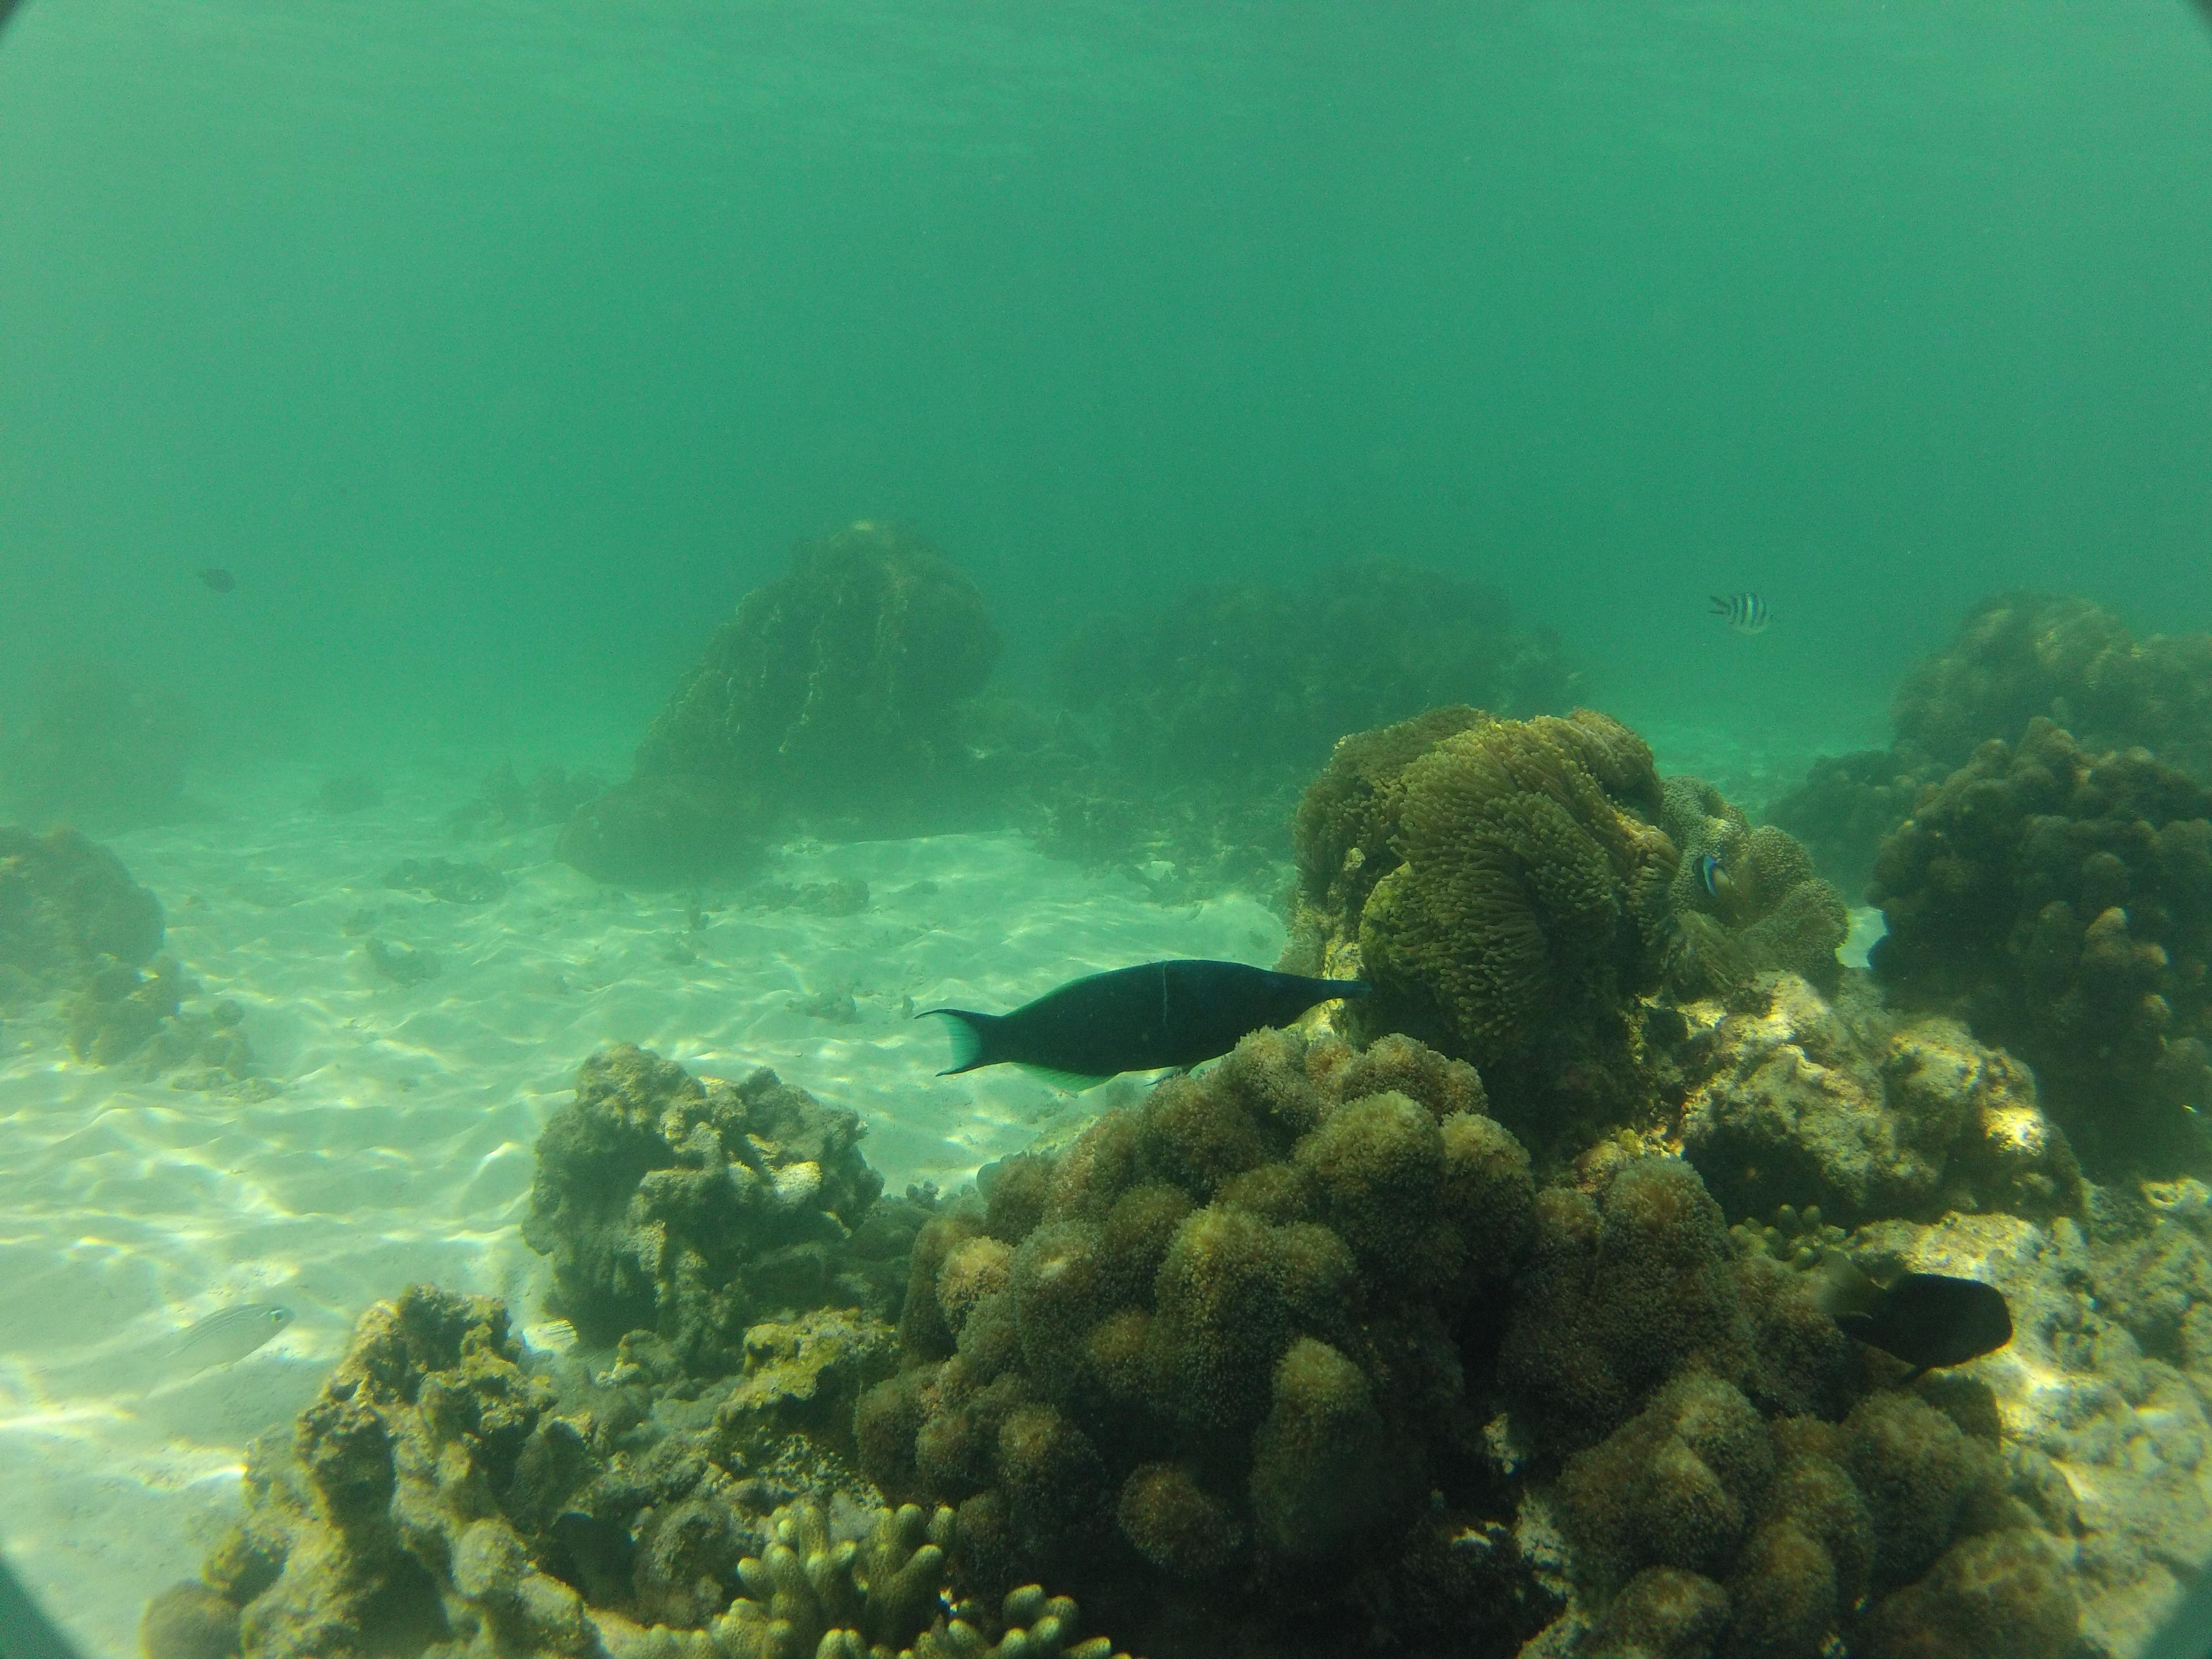Fish: (890, 945, 1400, 1140)
